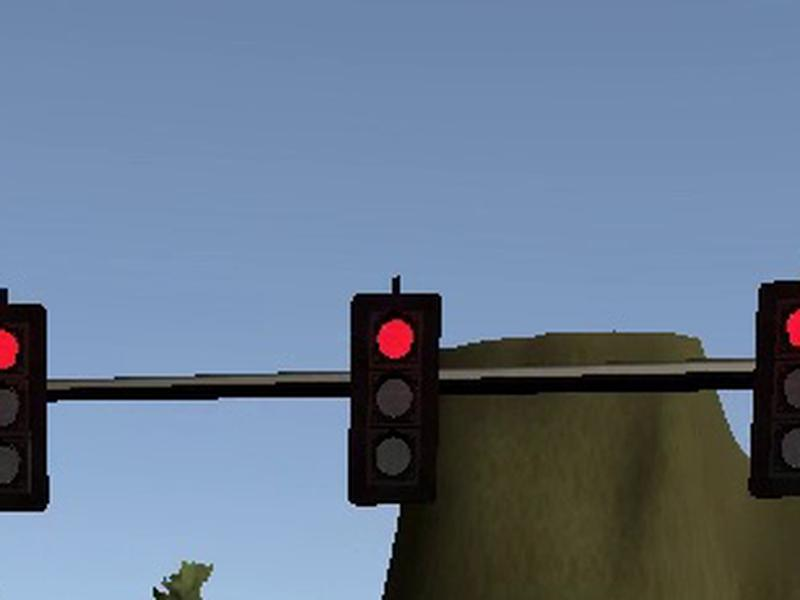Red: (347, 291, 442, 508), (747, 281, 800, 499), (1, 300, 50, 513)
